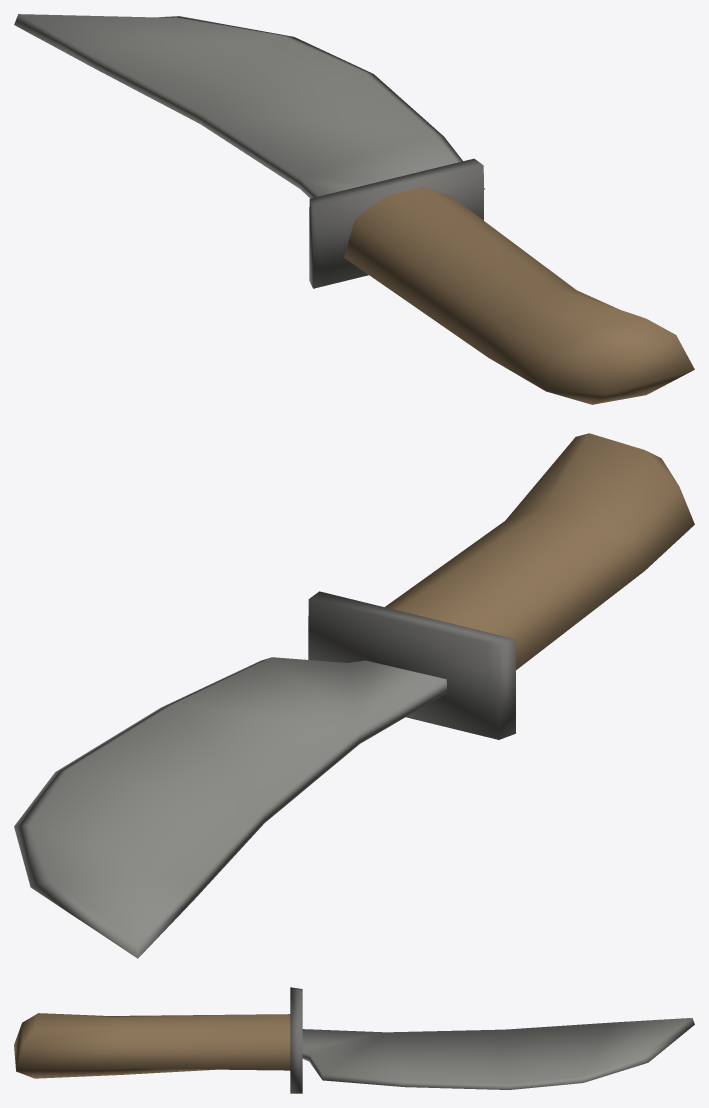
Rendered from rpgpp_ag_knife_01.fbx.
3 views of the same model, one above another, from view 1: azimuth 30°, elevation 25°; view 2: azimuth 150°, elevation 25°; view 3: azimuth 270°, elevation 25° (orthographic). The views are drawn at different scales.
Visible parts, largest first — view 1: rpgpp_ag_knife_01; view 2: rpgpp_ag_knife_01; view 3: rpgpp_ag_knife_01.
Part boxes in pixels (x1=…): rpgpp_ag_knife_01: x1=14, y1=14, x2=694, y2=404; rpgpp_ag_knife_01: x1=14, y1=433, x2=694, y2=958; rpgpp_ag_knife_01: x1=14, y1=987, x2=694, y2=1093.
Size of the model in its own units: 0.0943 by 0.0323 by 0.3747.
